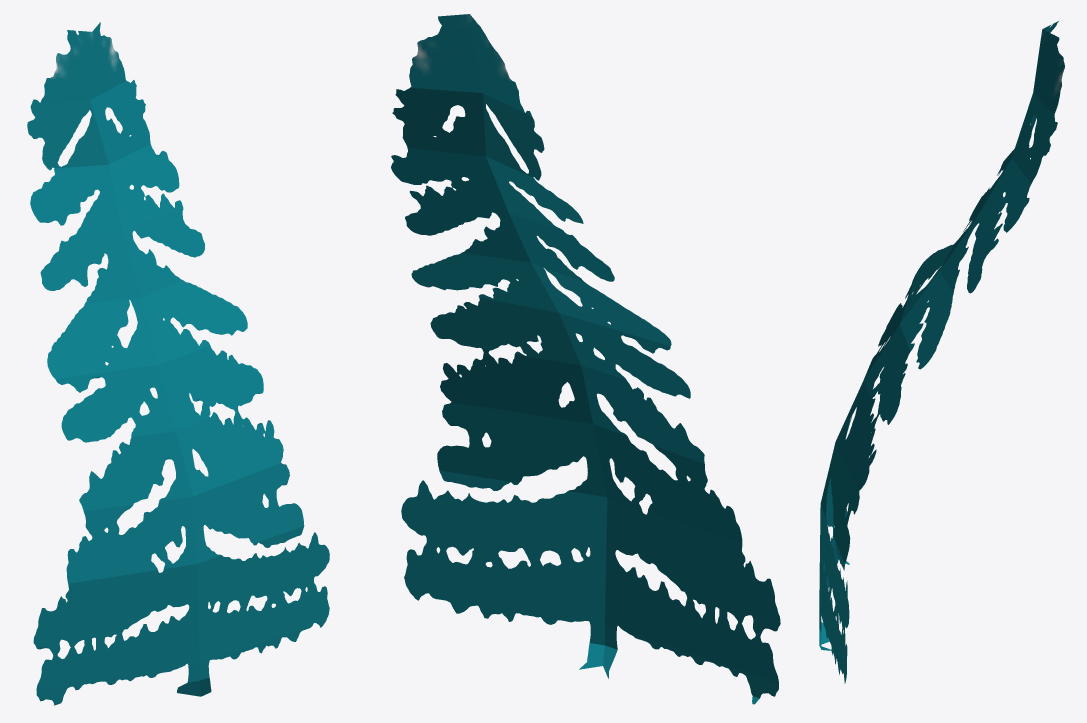
File: FolhaAzul.fbx
3 views of the same model, side by side, from view 1: azimuth 30°, elevation 25°; view 2: azimuth 150°, elevation 25°; view 3: azimuth 270°, elevation 25° (orthographic). The views are drawn at different scales.
Visible parts, largest first — view 1: FolhaAzul; view 2: FolhaAzul; view 3: FolhaAzul.
Part boxes in pixels (bbox=[...]): FolhaAzul: bbox=[27, 22, 329, 705]; FolhaAzul: bbox=[391, 14, 780, 704]; FolhaAzul: bbox=[819, 21, 1064, 683].
Size of the model in its own units: 0.3057 by 0.538 by 0.201.
